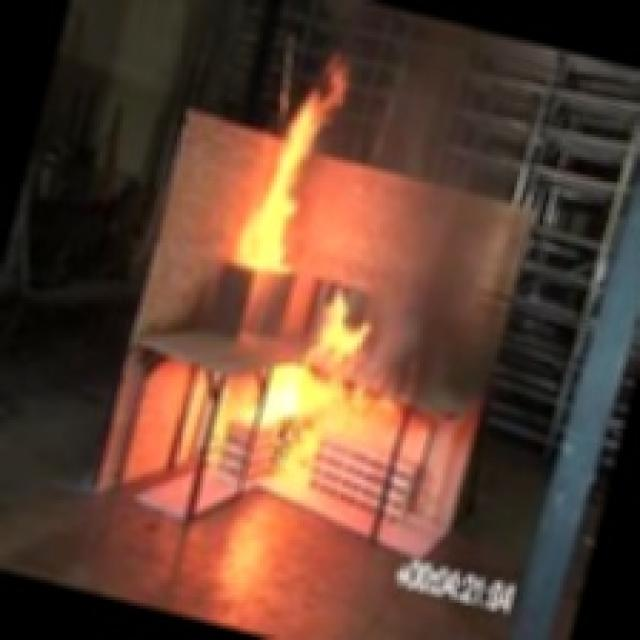fire: (190, 34, 381, 314), (243, 296, 397, 501)
